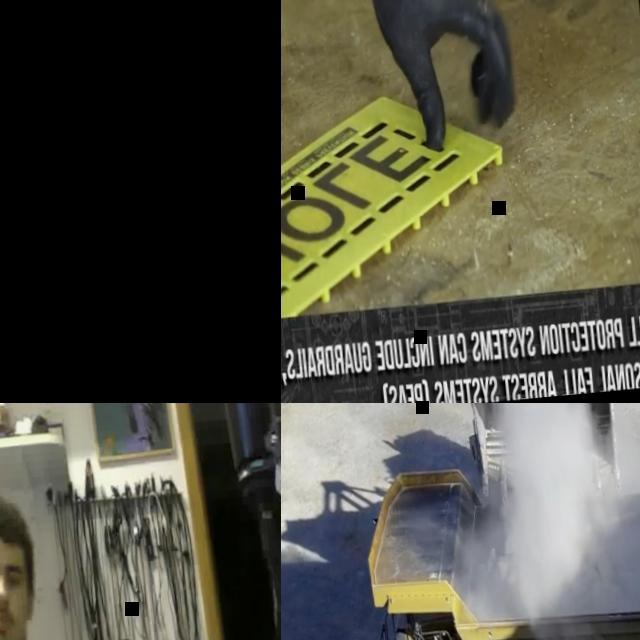machinery: (331, 432, 640, 640), (447, 403, 624, 512)
no_helmet: (0, 496, 29, 553)
no_mask: (0, 605, 27, 640)
person: (281, 0, 537, 316), (0, 489, 92, 640)
